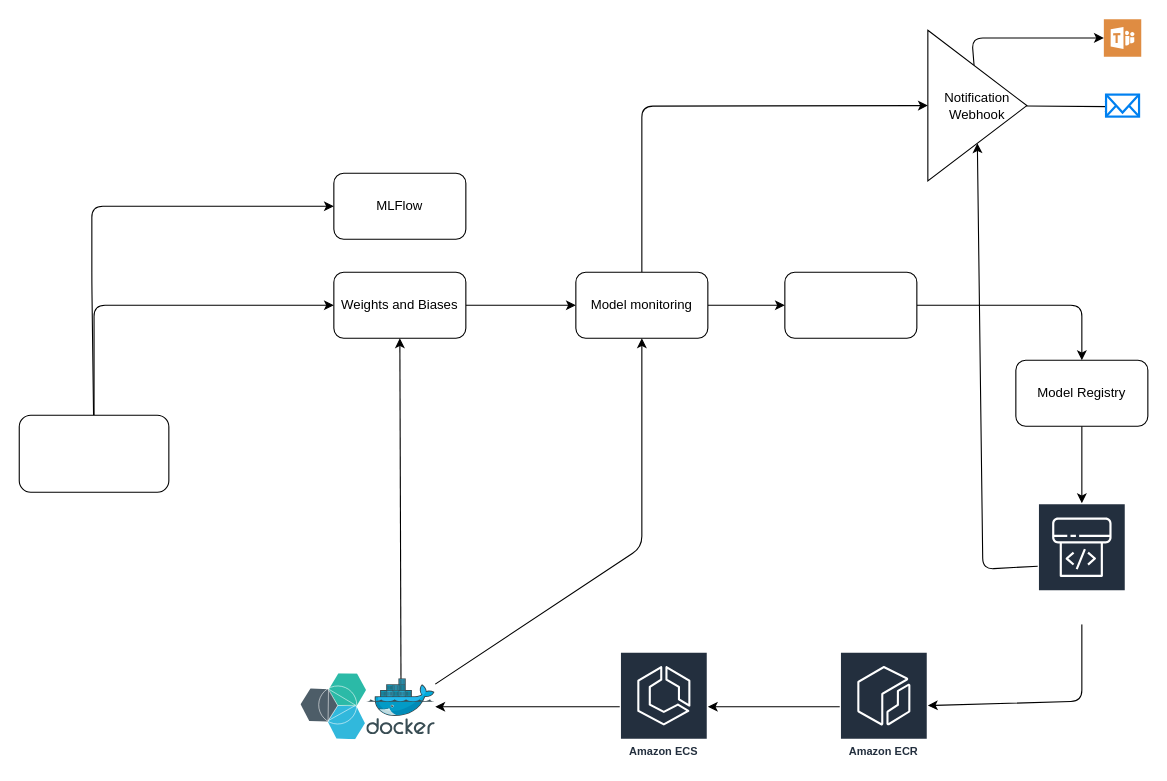
Some shapes in this 1167 by 781 pixel diagram are drawn without their labels. The shapes that lost their labels are listed below. From the top down, each one's centre as x and y in pixels, then its label:
At point 850,304: "Fine-tuning".
At point 93,453: "Model Training Notebook".
At point 1081,563: "AWS CodePipeline".
At point 400,706: "Fast API Inferencing".
